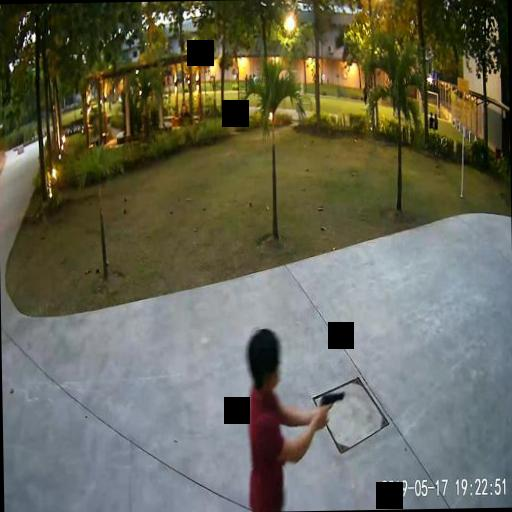Handgun: (318, 390, 345, 424)
